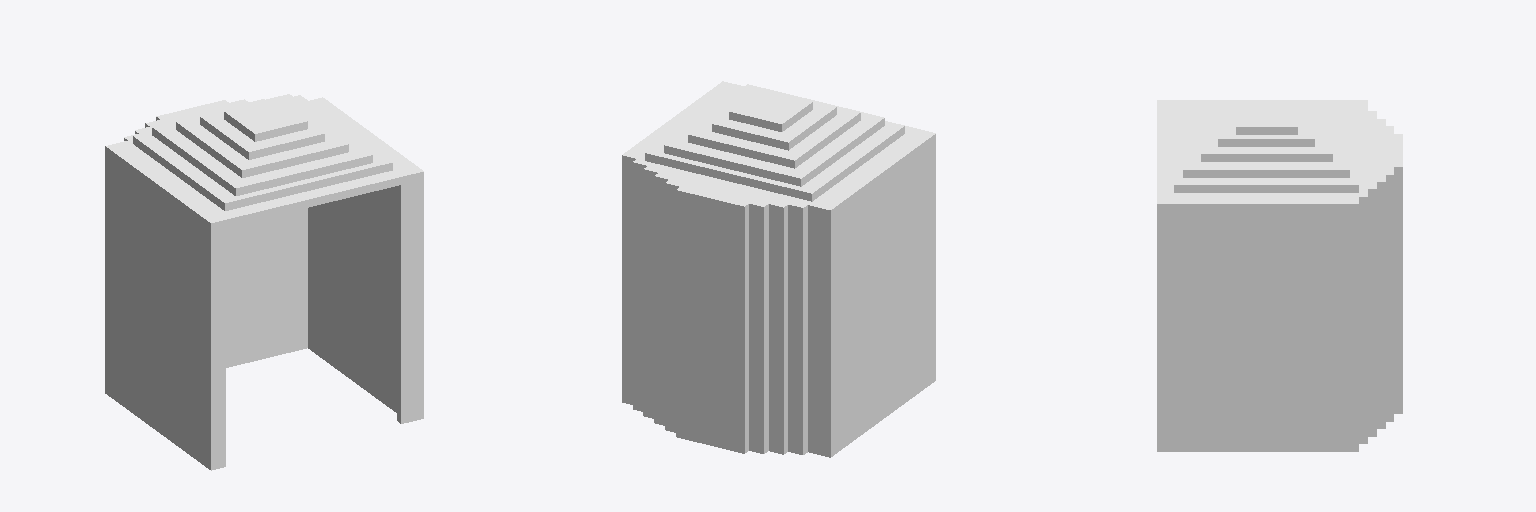
The model's file is goblinCave.obj.
The picture shows the model from 3 angles: view 1: azimuth 30°, elevation 25°; view 2: azimuth 150°, elevation 25°; view 3: azimuth 270°, elevation 25°; orthographic projection.
Visible parts, largest first — view 1: goblinCave; view 2: goblinCave; view 3: goblinCave.
Boxes of the visible parts, <box> form: goblinCave: <box>105,94,423,470</box>; goblinCave: <box>622,81,935,457</box>; goblinCave: <box>1157,100,1402,451</box>.
Size of the model in its own units: 28 by 36 by 28.